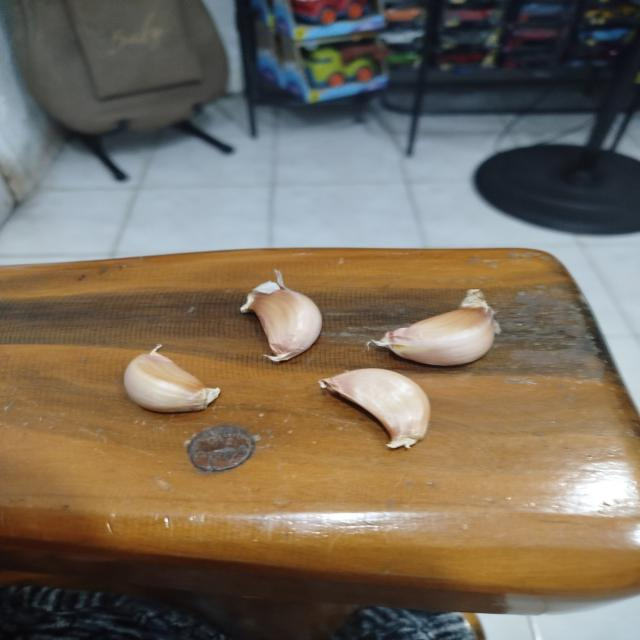garlic: (366, 288, 501, 366), (318, 367, 430, 450), (239, 269, 323, 363), (122, 344, 220, 413)
